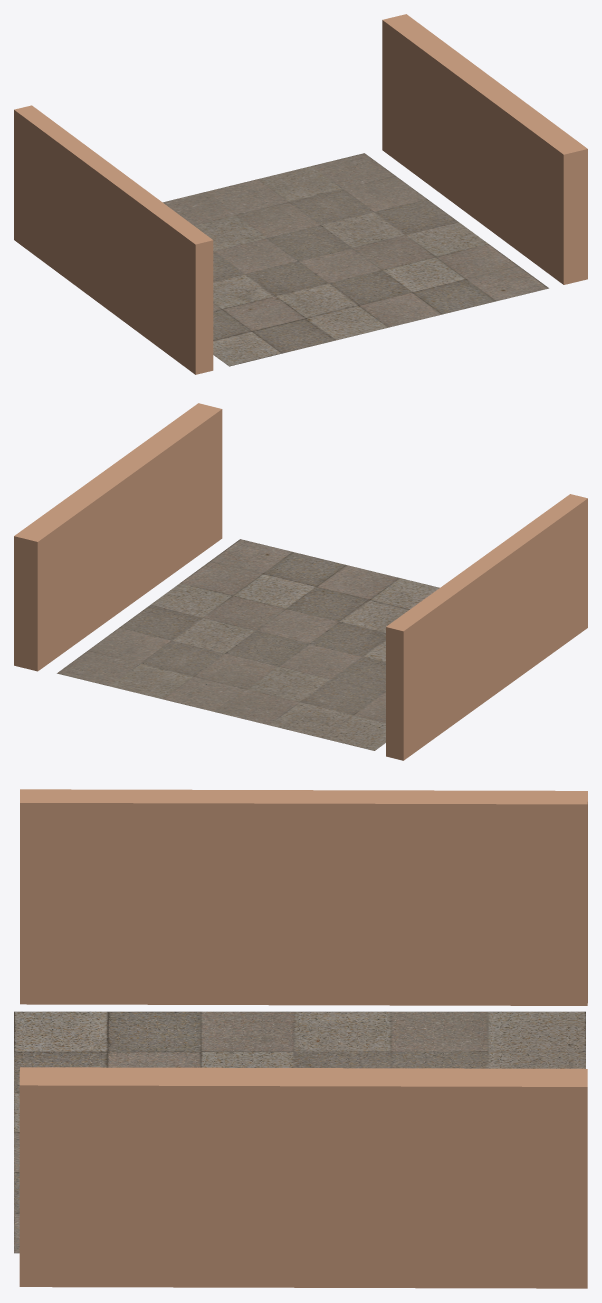
3 renders of one model, top to bottom at view 1: azimuth 30°, elevation 25°; view 2: azimuth 150°, elevation 25°; view 3: azimuth 270°, elevation 25°, orthographic. The views are drawn at different scales.
Parts seen in each view (by area): view 1: Plane, Plane.001, Plane.002; view 2: Plane, Plane.001, Plane.002; view 3: Plane.001, Plane.002, Plane.
Boxes of the visible parts, x1,y1,x2,y2 form: Plane: (163, 153, 548, 366); Plane.001: (382, 14, 587, 284); Plane.002: (14, 105, 213, 374); Plane: (57, 539, 439, 750); Plane.001: (14, 403, 222, 671); Plane.002: (386, 494, 587, 760); Plane.001: (19, 1067, 587, 1288); Plane.002: (20, 789, 587, 1005); Plane: (14, 1011, 585, 1253).
Bounding box in the file's own units: 24.63 × 7.78 × 20.07.
Materials: 3 (1 with a texture image).
